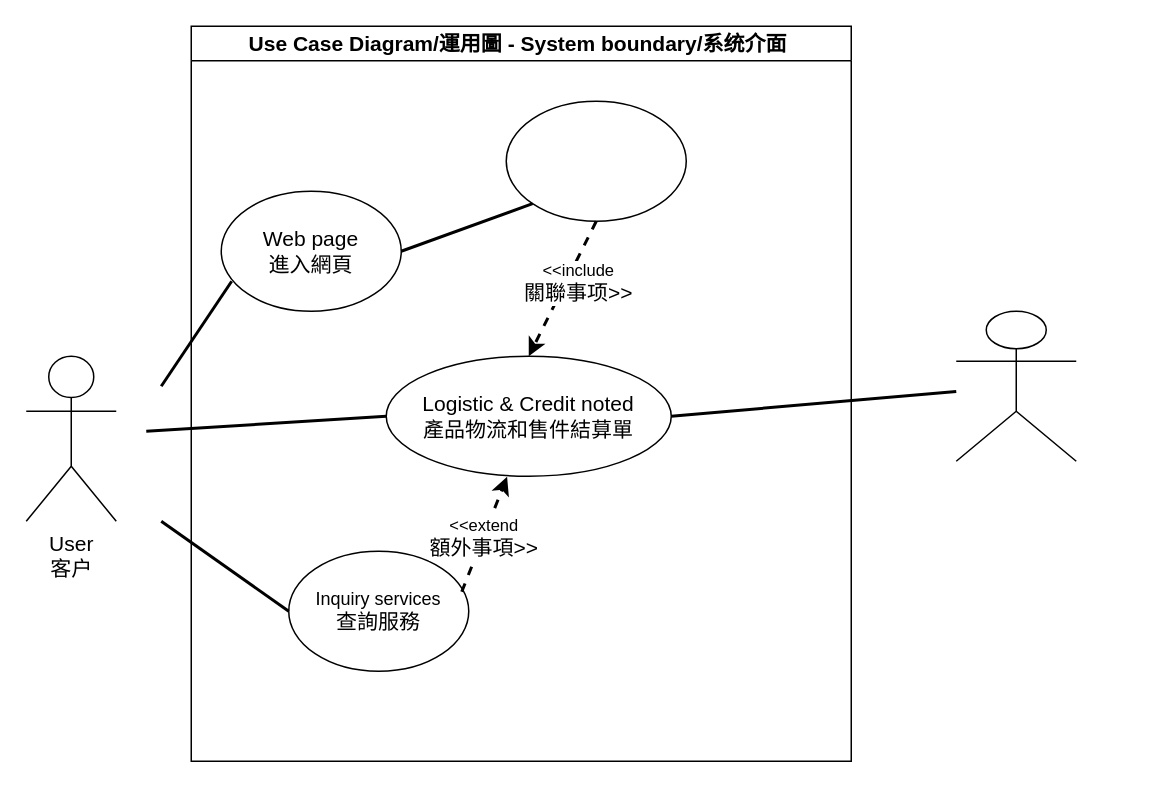
This 1155x788 diagram has some shape labels left out. Each missing label, with the centre of its shape:
"Cloud with administrator 雲端和網售執行官" belongs at (1015,385).
"Function editor 產品銷售處理" belongs at (595,160).
